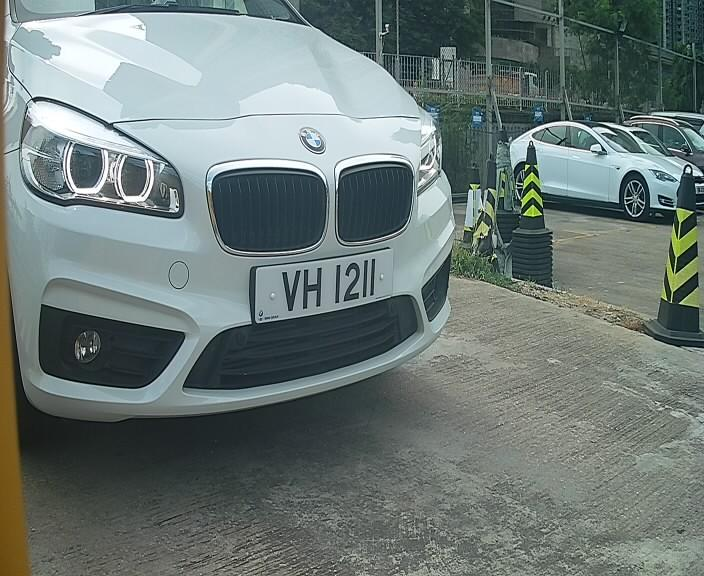License Plate: (252, 237, 403, 330)
